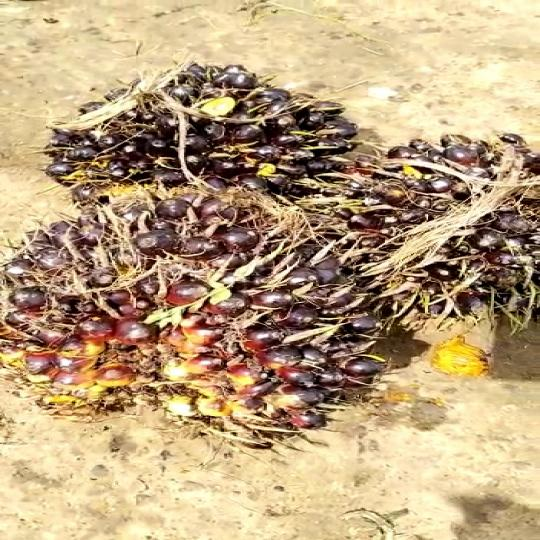mentah: (0, 179, 393, 444), (49, 50, 350, 198), (342, 114, 540, 312)
